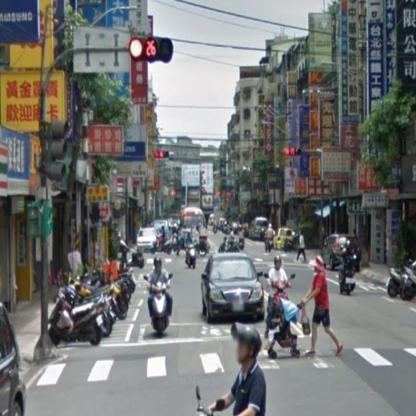Red Light: (126, 35, 174, 62), (282, 146, 303, 156), (152, 148, 170, 158)
